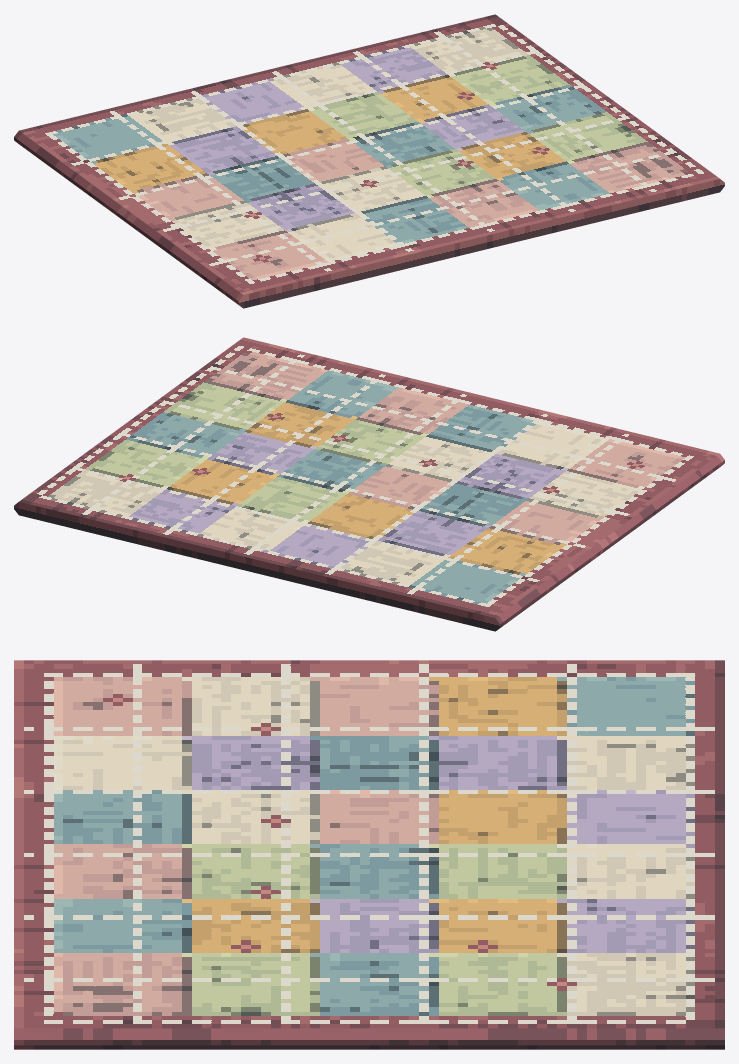
Rendered from patch_rug.glb.
3 renders of one model, top to bottom at view 1: azimuth 30°, elevation 25°; view 2: azimuth 150°, elevation 25°; view 3: azimuth 270°, elevation 25°, orthographic. The views are drawn at different scales.
Parts seen in each view (by area): view 1: rug; view 2: rug; view 3: rug.
Part boxes in pixels (x1=…): rug: x1=14, y1=14, x2=724, y2=308; rug: x1=14, y1=337, x2=724, y2=631; rug: x1=14, y1=660, x2=724, y2=1049.
Size of the model in its own units: 1.88 by 0.05 by 1.5.
1 material, 1 textured.
